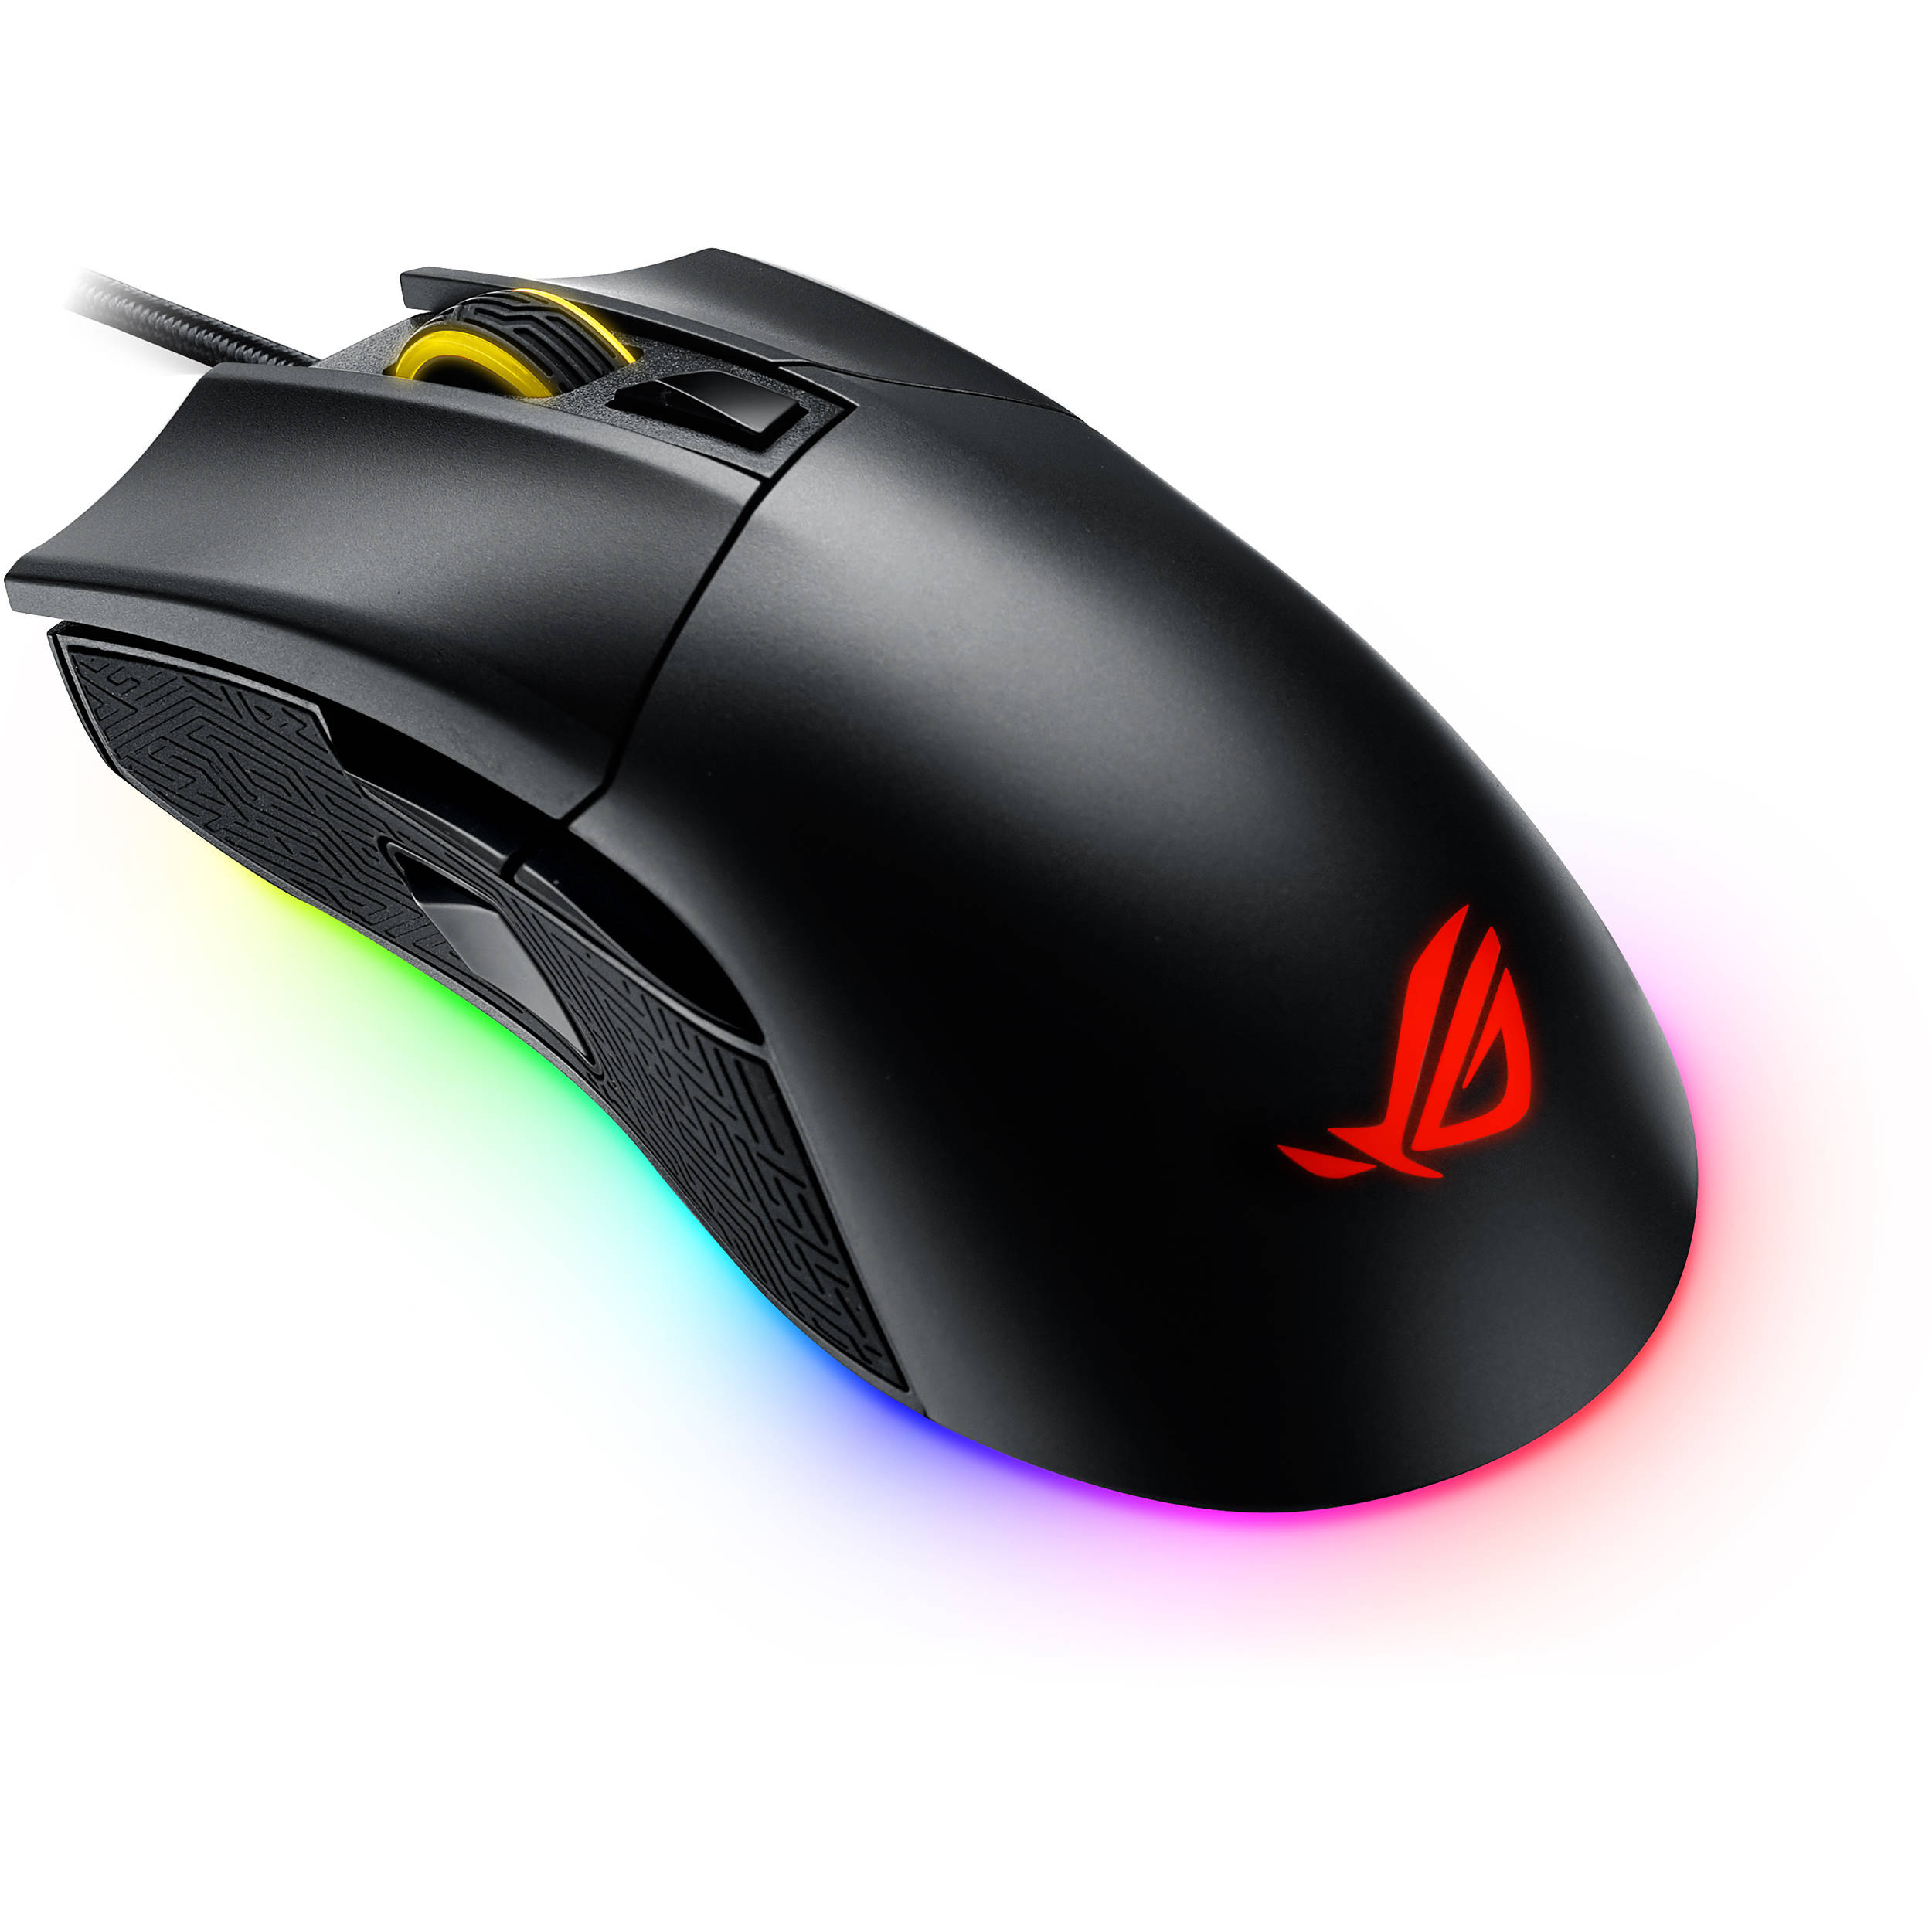mouse: (2, 97, 1824, 1688)
